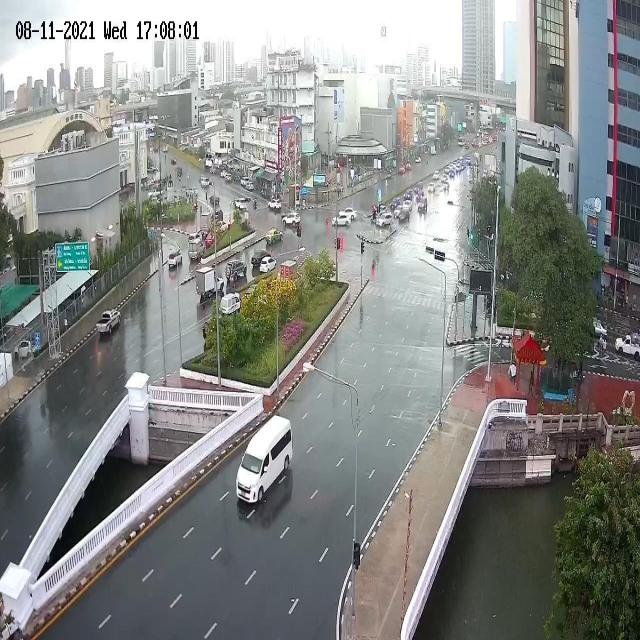Car: (13, 337, 34, 361), (225, 260, 247, 282), (252, 249, 272, 268), (260, 256, 278, 274), (266, 227, 283, 245), (282, 212, 301, 228), (332, 212, 351, 227), (593, 321, 608, 339), (168, 251, 182, 269), (376, 213, 392, 228), (343, 207, 357, 220), (235, 198, 248, 211), (204, 232, 215, 247), (268, 199, 282, 210), (418, 197, 428, 212), (188, 233, 200, 244), (398, 210, 409, 222), (394, 205, 404, 218), (390, 197, 400, 210), (209, 194, 220, 205), (402, 200, 412, 212), (403, 188, 413, 200), (245, 181, 255, 190), (428, 183, 435, 193), (433, 170, 440, 180), (220, 170, 228, 178), (414, 156, 422, 164), (225, 174, 232, 182)
Truck: (194, 268, 224, 297), (614, 334, 640, 360), (96, 309, 121, 336), (189, 238, 205, 261), (280, 258, 298, 278), (200, 211, 211, 237), (148, 189, 160, 198)
Van: (236, 414, 293, 504), (220, 293, 242, 315)
